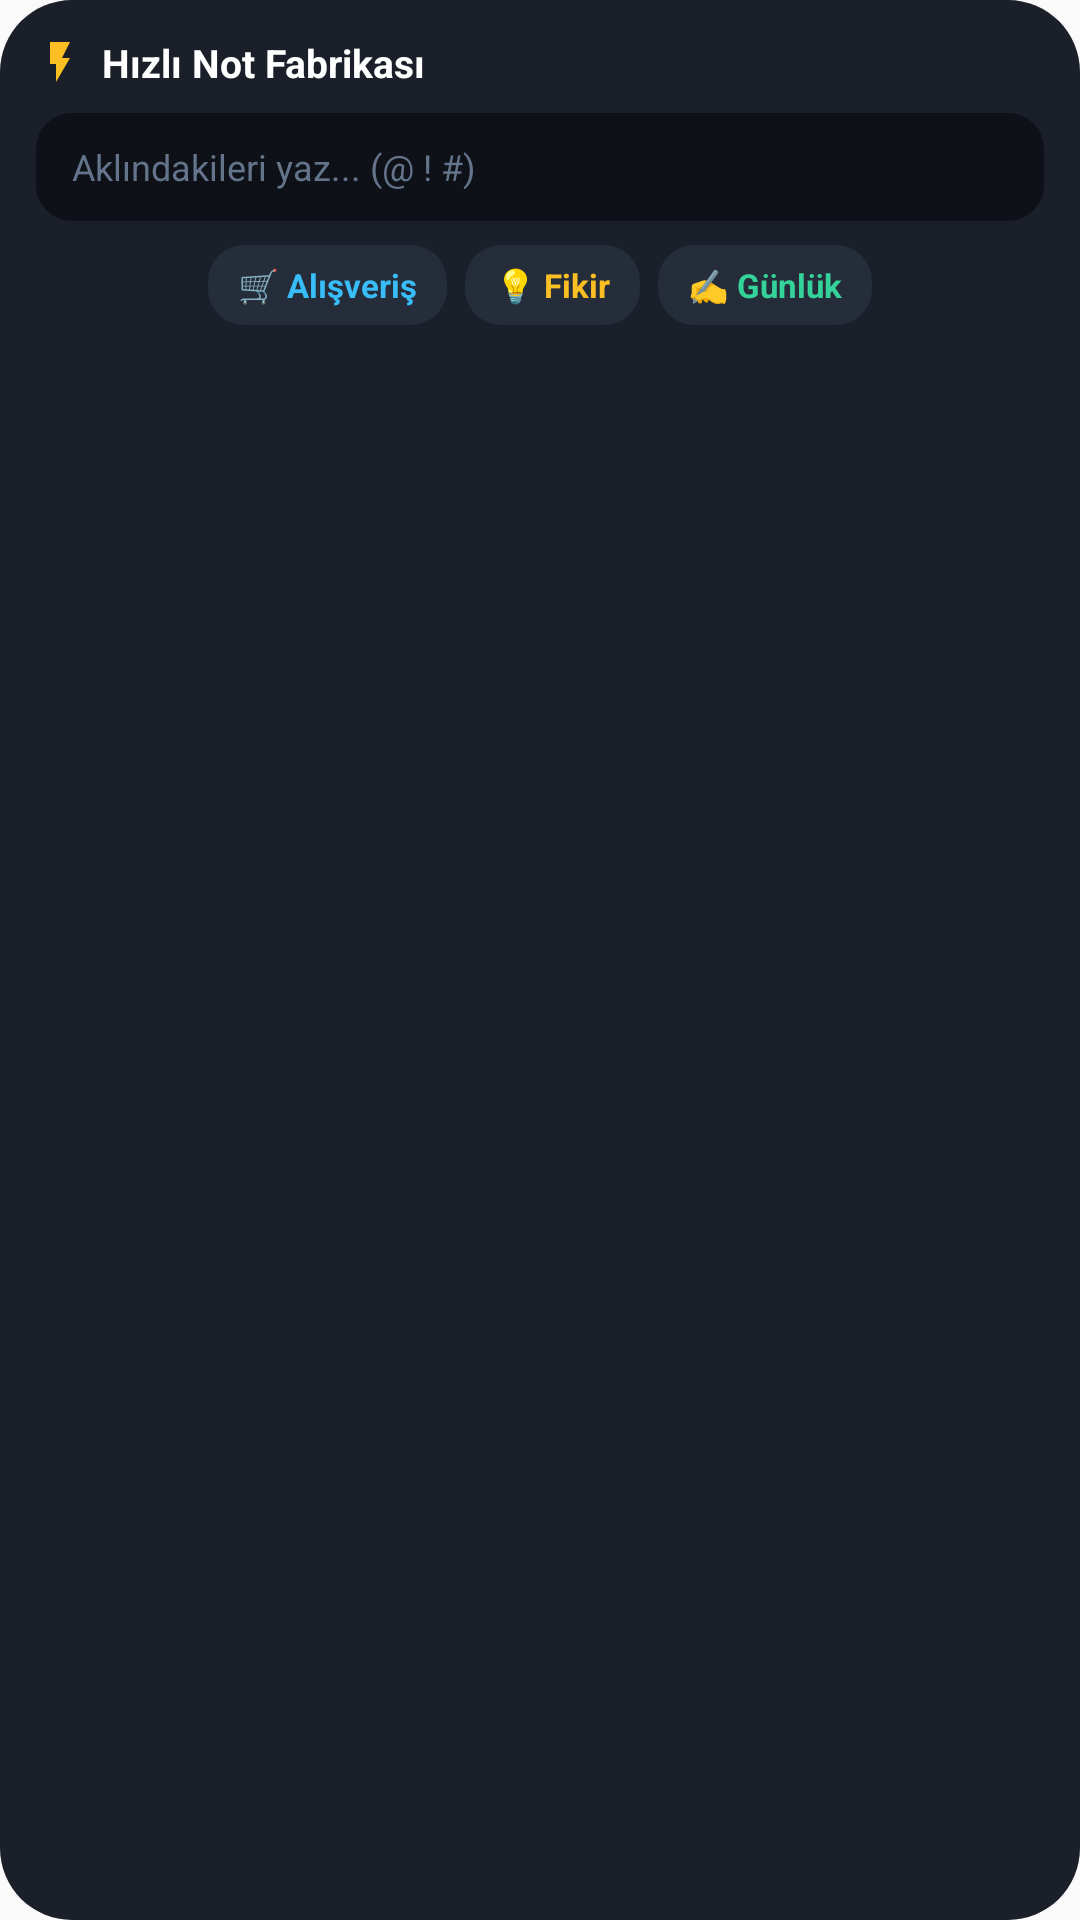

Named icons in this screenshot (1080*1920) and their bounding boxes, region(x1, y1, x2, y2):
lightning: region(50, 42, 70, 82)
